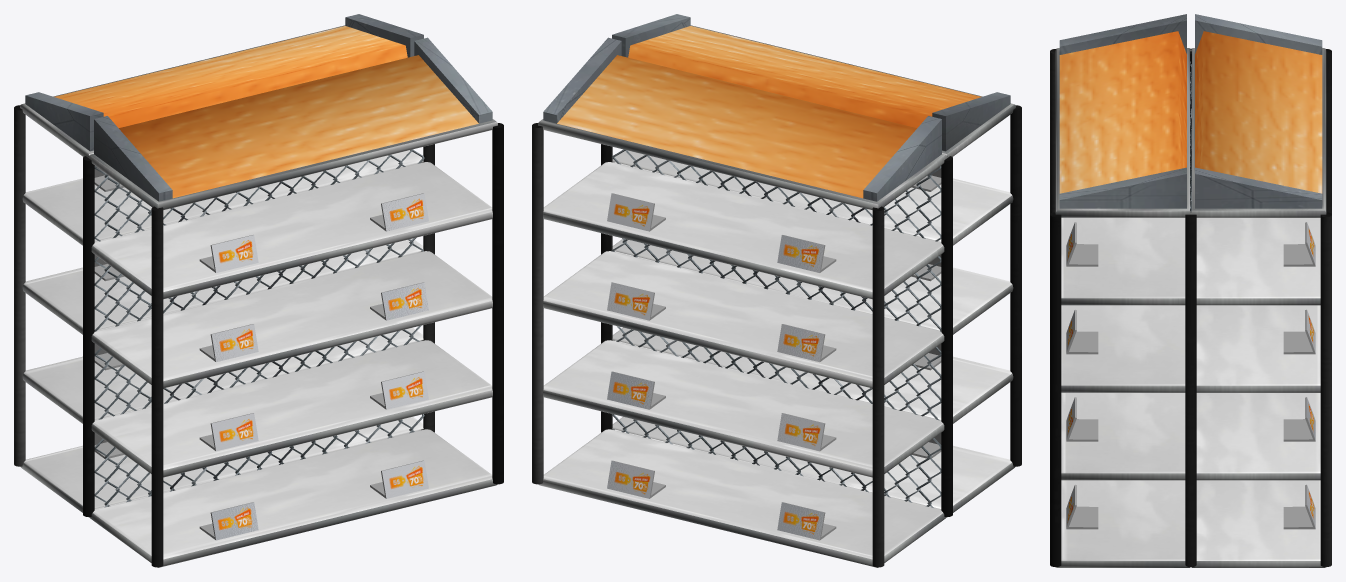
Rendered from NMCShelf000.fbx.
3 renders of one model, left to right at view 1: azimuth 30°, elevation 25°; view 2: azimuth 150°, elevation 25°; view 3: azimuth 270°, elevation 25°, orthographic.
Visible parts, largest first — view 1: Shelf000; view 2: Shelf000; view 3: Shelf000.
Part boxes in pixels (box(x1,y1,x2,y2)): Shelf000: box(14, 14, 503, 567); Shelf000: box(532, 14, 1021, 567); Shelf000: box(1050, 14, 1331, 567).
Bounding box in the file's own units: 206 × 225 × 146.
1 material, 1 textured.
